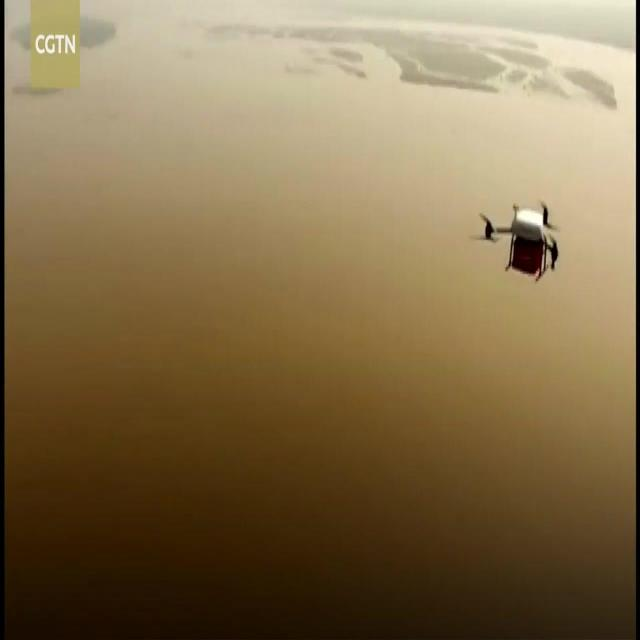UAV: (468, 201, 558, 283)
